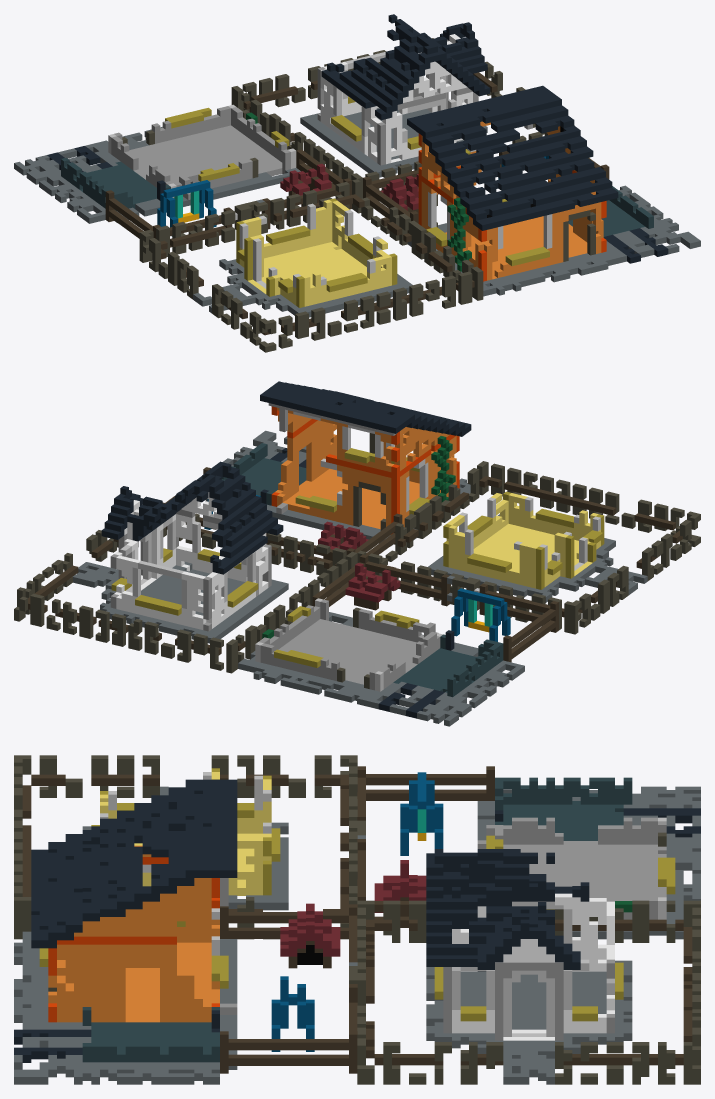
The model's file is building_small_4_destroyed.obj.
The picture shows the model from 3 angles, top to bottom: view 1: azimuth 30°, elevation 25°; view 2: azimuth 150°, elevation 25°; view 3: azimuth 270°, elevation 25°; orthographic projection. The views are drawn at different scales.
Bounding box in the file's own units: 8 × 2.1 × 8.
Materials: 1 (1 with a texture image).
